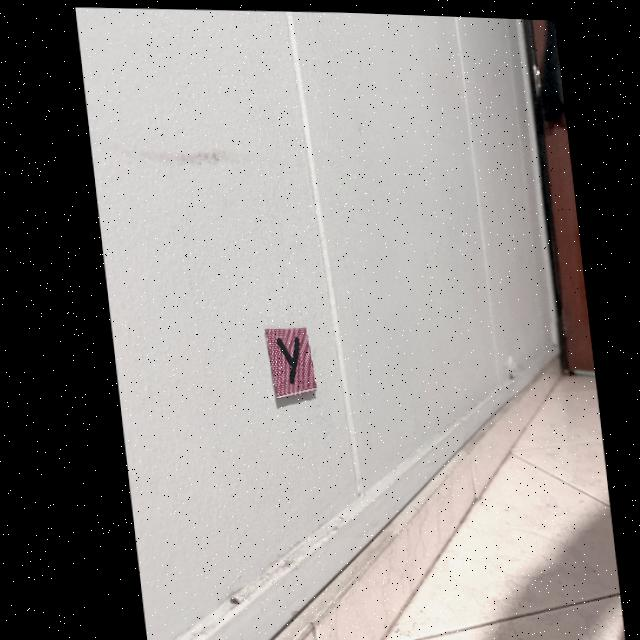Y: (270, 335, 293, 381)
